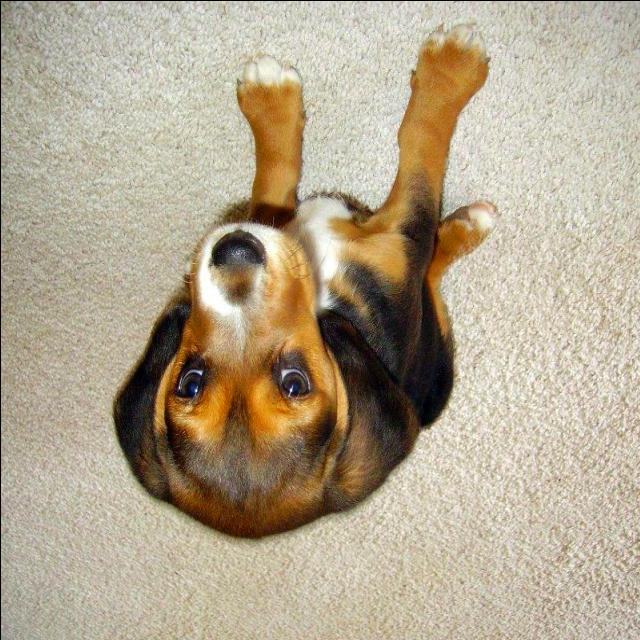beagle: (108, 17, 500, 544)
